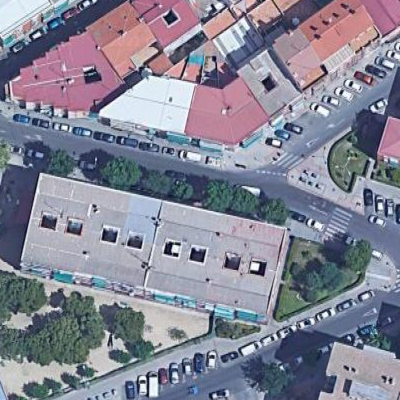tree: (1, 266, 55, 318), (40, 317, 87, 366), (62, 292, 105, 343), (97, 152, 144, 194), (111, 304, 154, 348), (296, 262, 343, 302), (4, 324, 45, 366), (341, 236, 381, 274), (251, 360, 291, 394), (143, 161, 174, 202), (48, 146, 83, 182), (202, 176, 235, 213), (233, 183, 260, 217), (264, 197, 292, 229), (171, 173, 195, 205)
